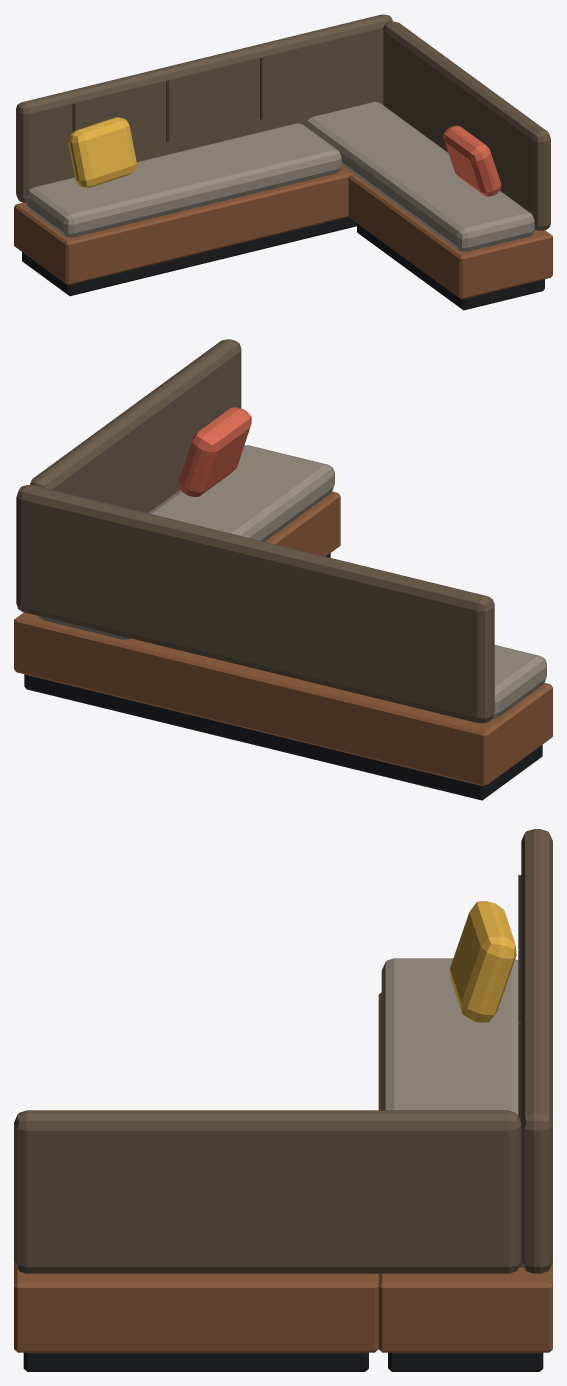
The model's file is banquette_bench.glb.
The picture shows the model from 3 angles, top to bottom: view 1: azimuth 30°, elevation 25°; view 2: azimuth 150°, elevation 25°; view 3: azimuth 270°, elevation 25°; orthographic projection. The views are drawn at different scales.
Parts seen in each view (by area): view 1: banquette_bench_Body; view 2: banquette_bench_Body; view 3: banquette_bench_Body.
Boxes of the visible parts, x1,y1,x2,y2 form: banquette_bench_Body: (14,14,552,310); banquette_bench_Body: (14,339,552,800); banquette_bench_Body: (14,829,552,1371).
Bounding box in the file's own units: 2.2 × 0.9 × 1.7.
